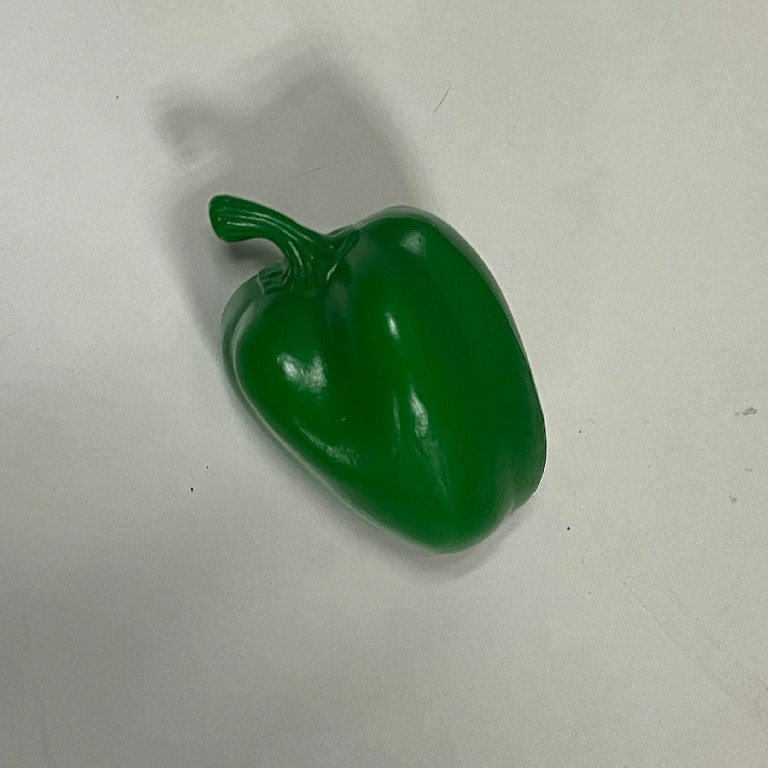fruit_pepper: (203, 190, 555, 561)
